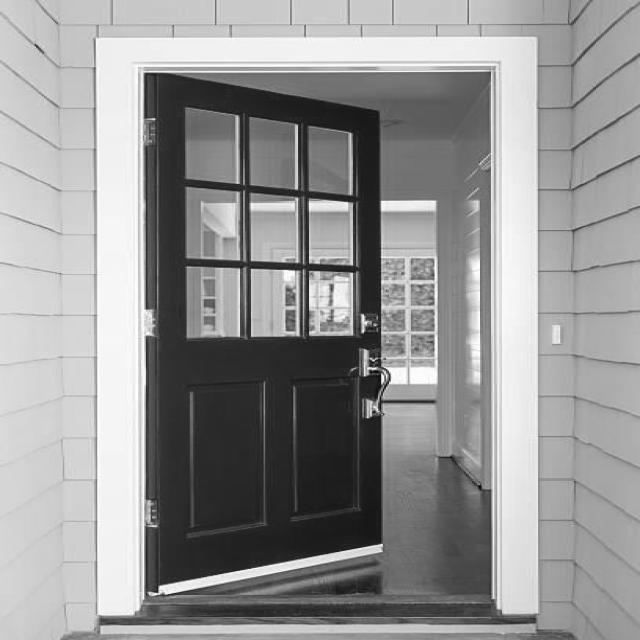door: (81, 18, 563, 623)
